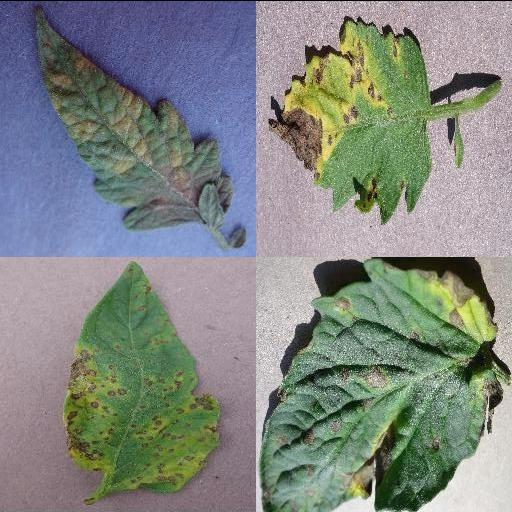Early Blight: (260, 257, 500, 512)
Leaf Mold: (32, 4, 232, 226)
Septoria: (66, 261, 220, 493), (266, 18, 434, 222)
